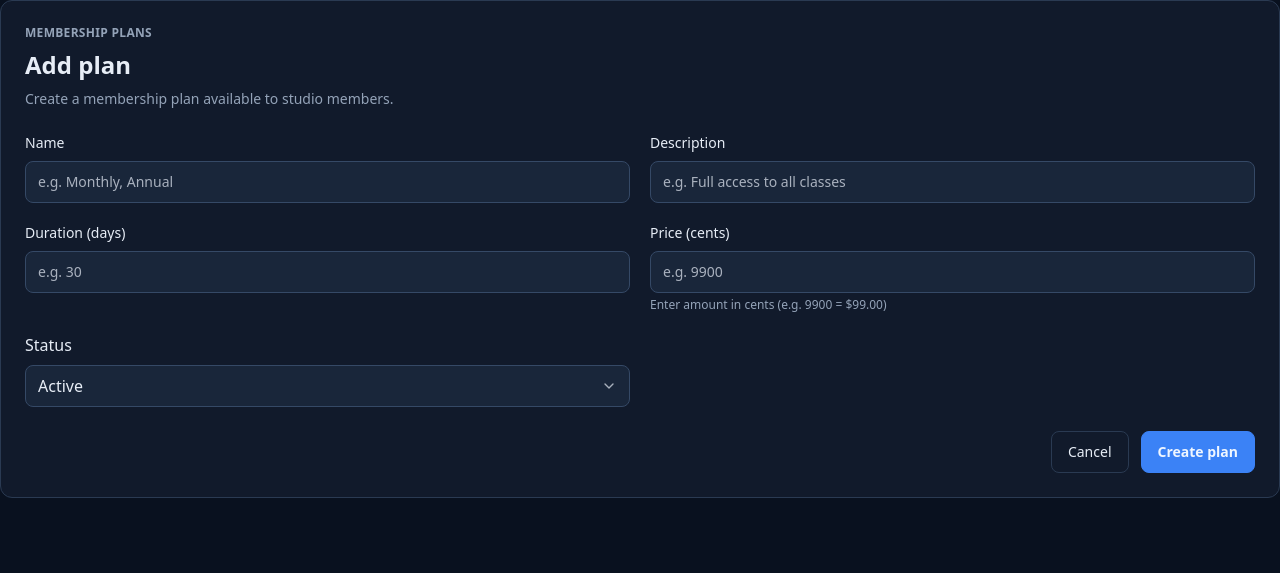
Test: CreateMembershipPlanForm › renders action-level failure message
In the field labelled "Name": (328, 182) [25,161,630,203], type "Monthly Unlimited"
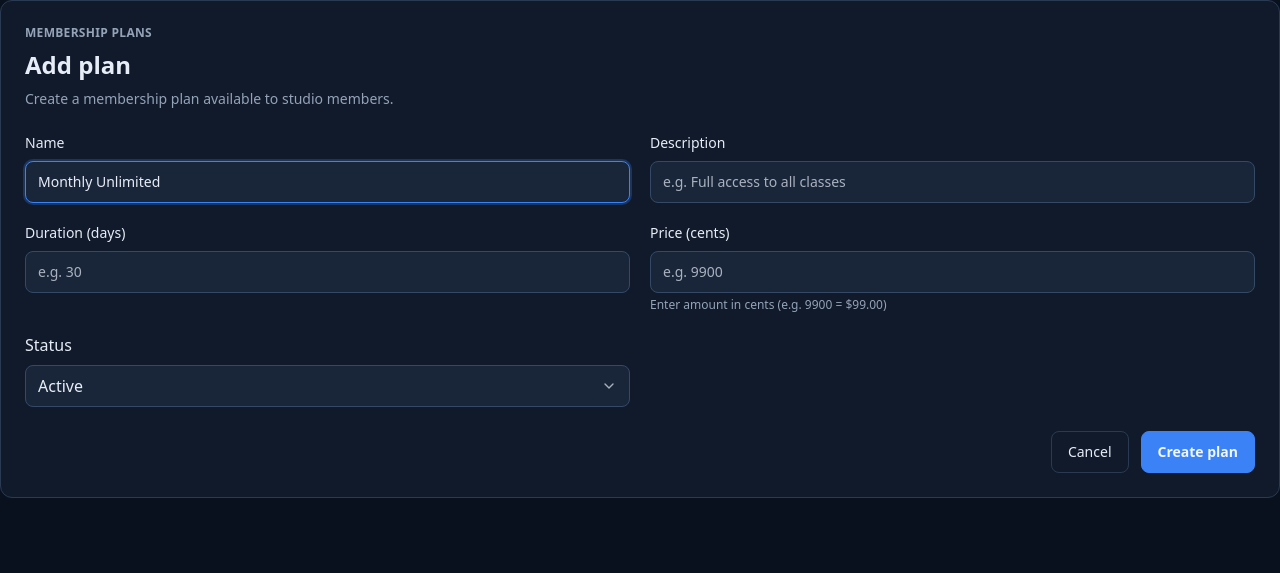
In the number field labelled "Duration (days)": (328, 272) [25,251,630,293], type "30"
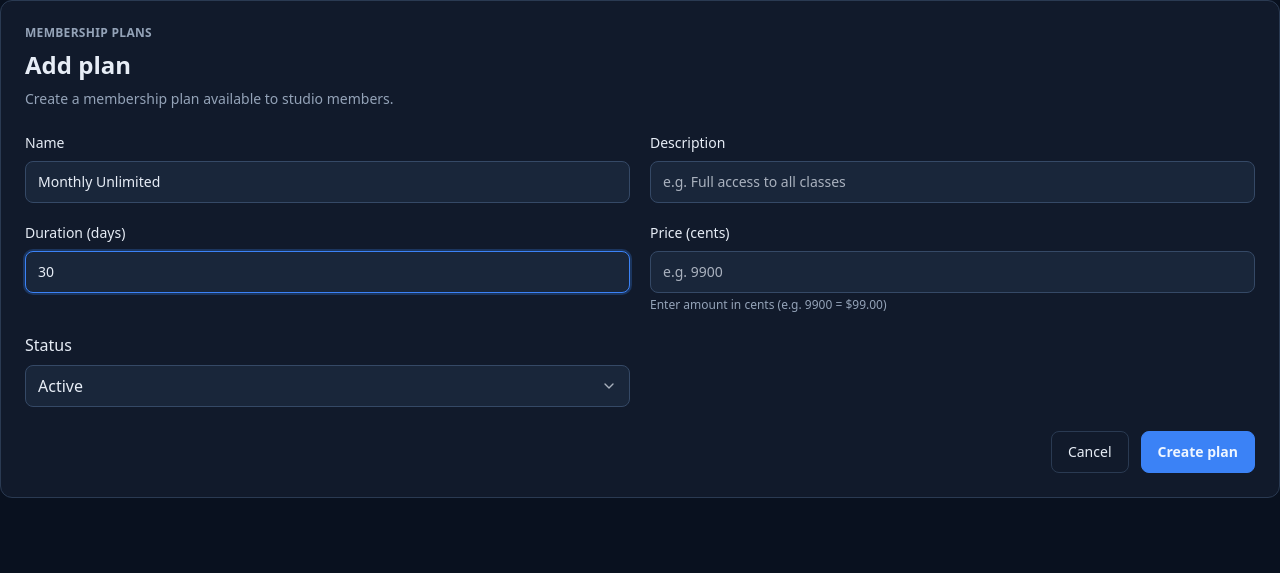
In the number field labelled "Price (cents)": (952, 272) [650,251,1255,293], type "9900"
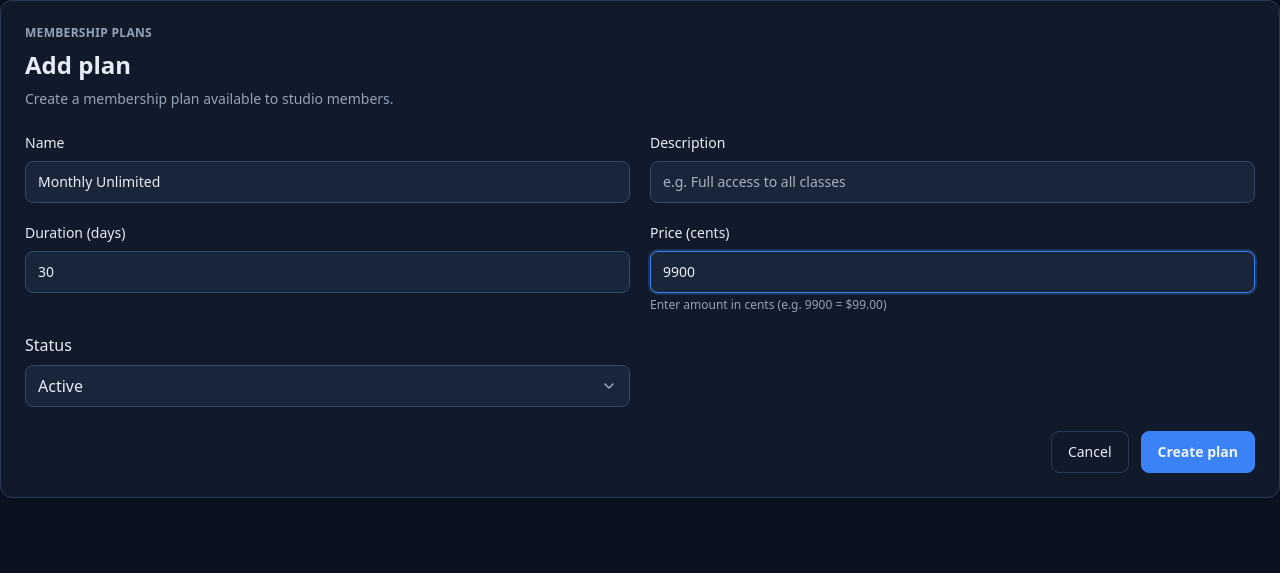
Click the button "Create plan": click(1198, 452) [1140,431,1255,473]
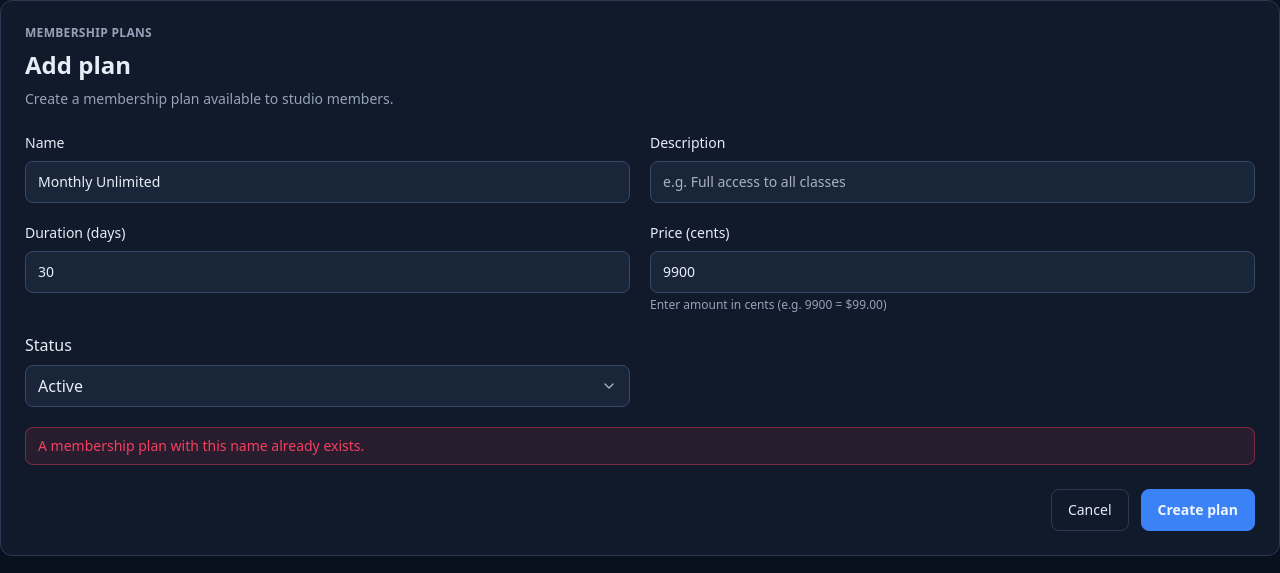
Now the message reads "A membership plan with this name already exists.", box [38,436,364,455]
